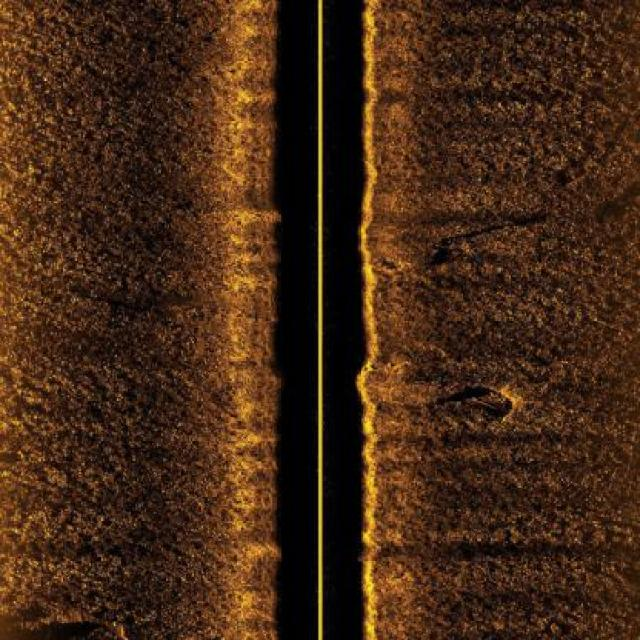other: (459, 364, 526, 436)
